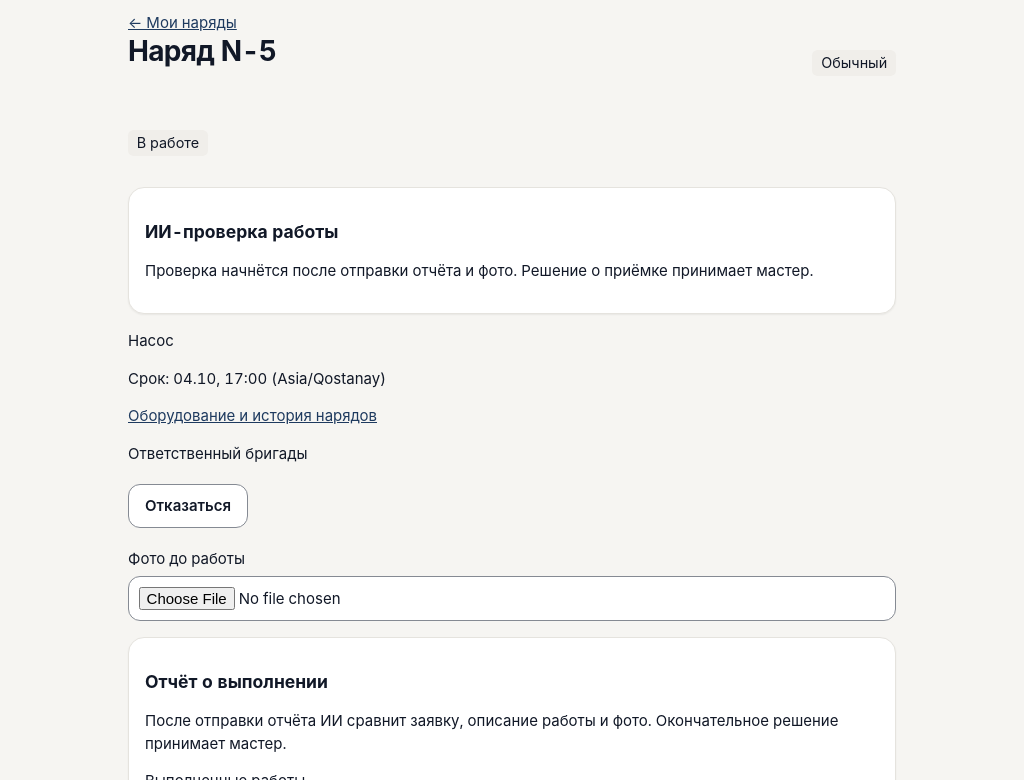
Test: requires the explicit rejection reason
The width and height of the screenshot is (1024, 780).
Later steps or results of the test are not shown.
Click the button "Отказаться" at (188, 506), box [128,484,248,528]
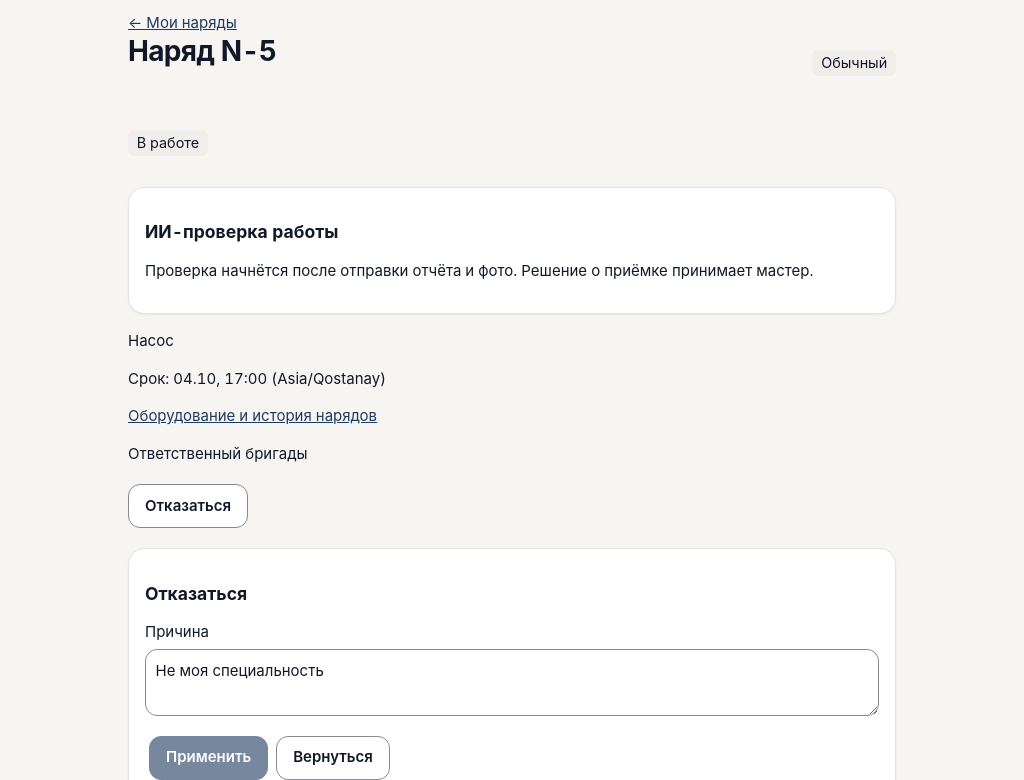
Expected: the button "Применить" is disabled, [149,736,268,779]
